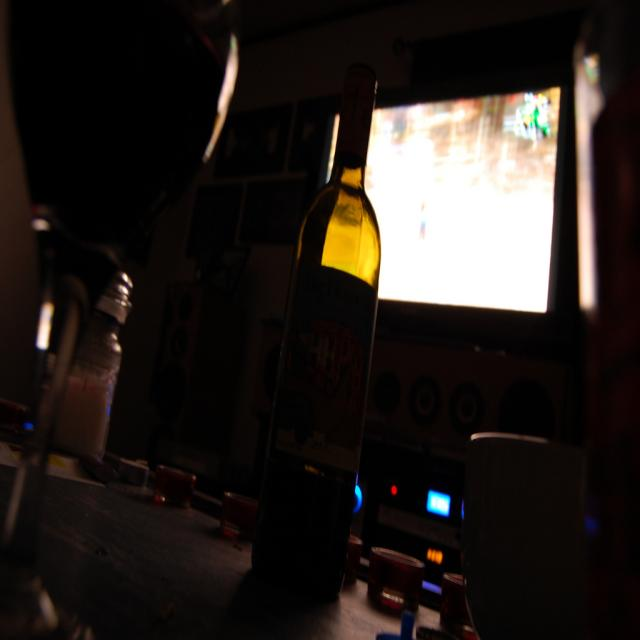Bottle: (245, 53, 401, 581)
Cup: (0, 0, 193, 640), (454, 412, 600, 640)
